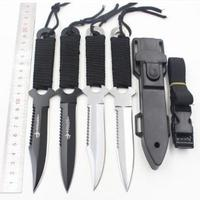knife: (110, 13, 139, 200), (83, 17, 111, 195), (27, 21, 54, 195), (56, 18, 82, 196)
